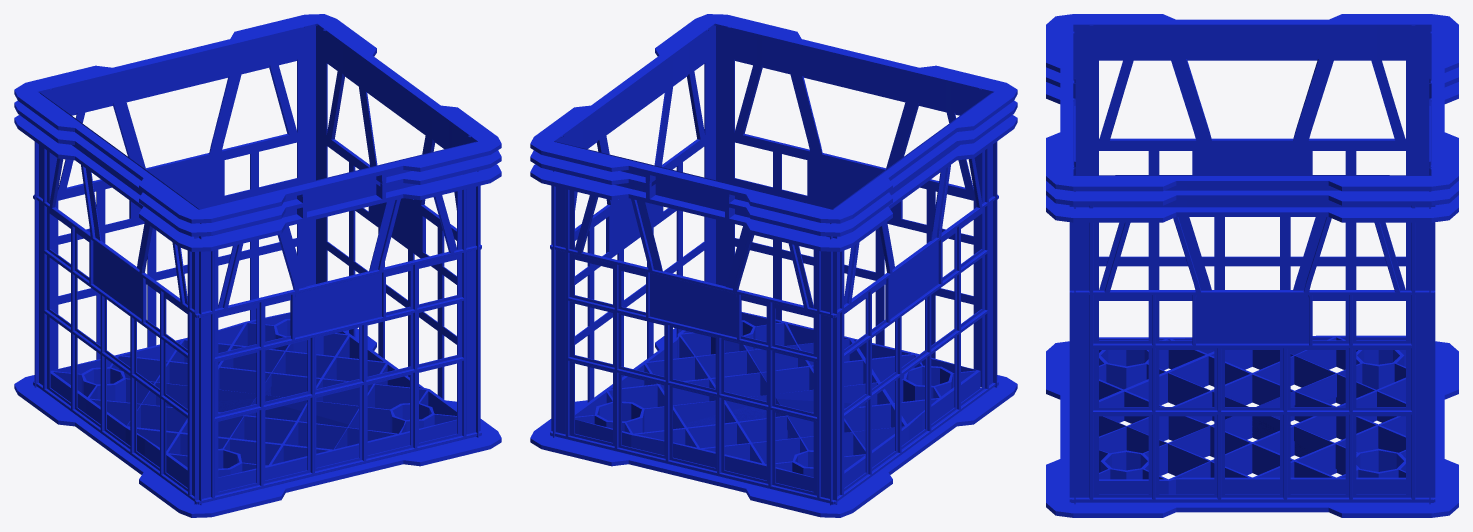
Rendered from milkcrate.gltf.
3 renders of one model, left to right at view 1: azimuth 30°, elevation 25°; view 2: azimuth 150°, elevation 25°; view 3: azimuth 270°, elevation 25°, orthographic. The views are drawn at different scales.
Visible parts, largest first — view 1: solid crate; view 2: solid crate; view 3: solid crate.
Boxes of the visible parts, <box> form: solid crate: <box>14,14,501,517</box>; solid crate: <box>530,14,1017,517</box>; solid crate: <box>1046,14,1458,517</box>.
Bounding box in the file's own units: 2.54 × 2.31 × 2.56.
